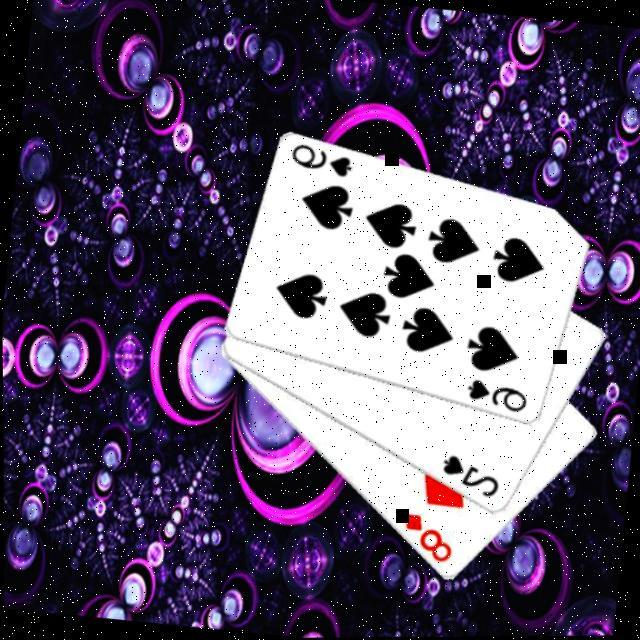2S: (434, 452, 502, 502)
8D: (393, 509, 455, 568)
9S: (459, 376, 529, 418), (284, 140, 354, 182)
